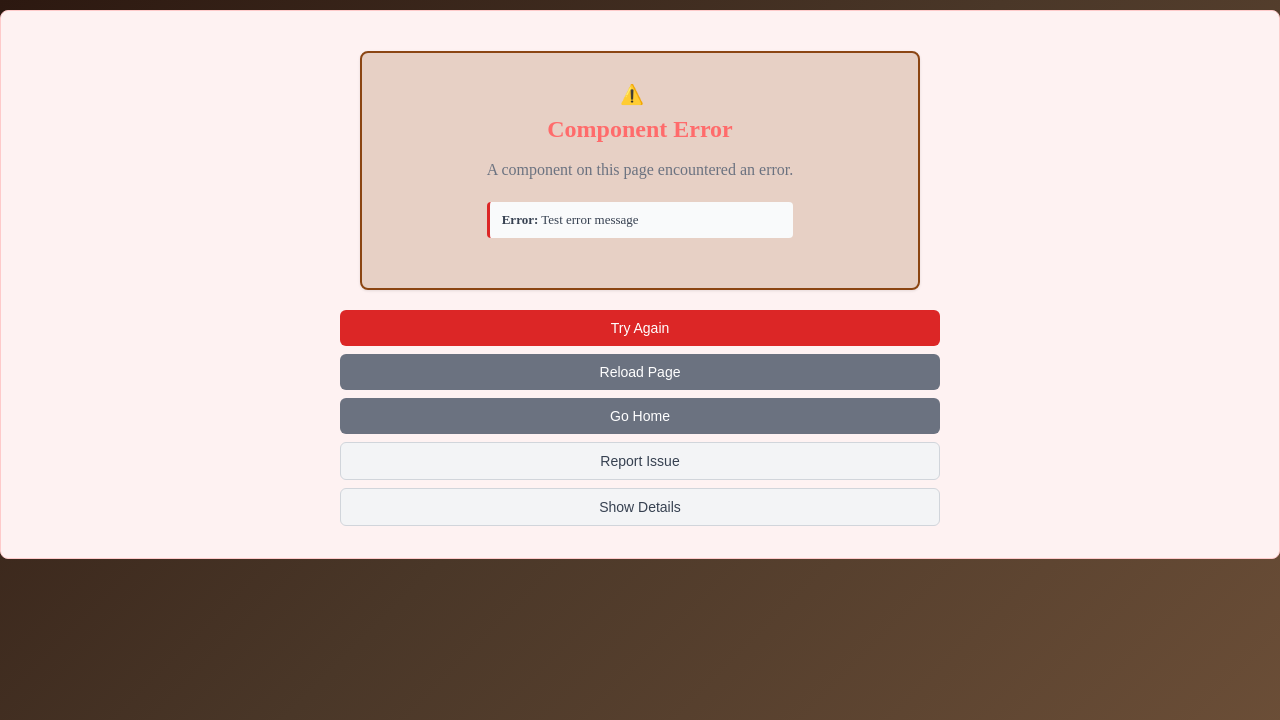
Test: EnhancedErrorBoundary › Error Details › shows details when show details button is clicked
The image size is (1280, 720).
Click the button "Show Details": click(640, 506) [340,488,940,526]
(page scrolled)
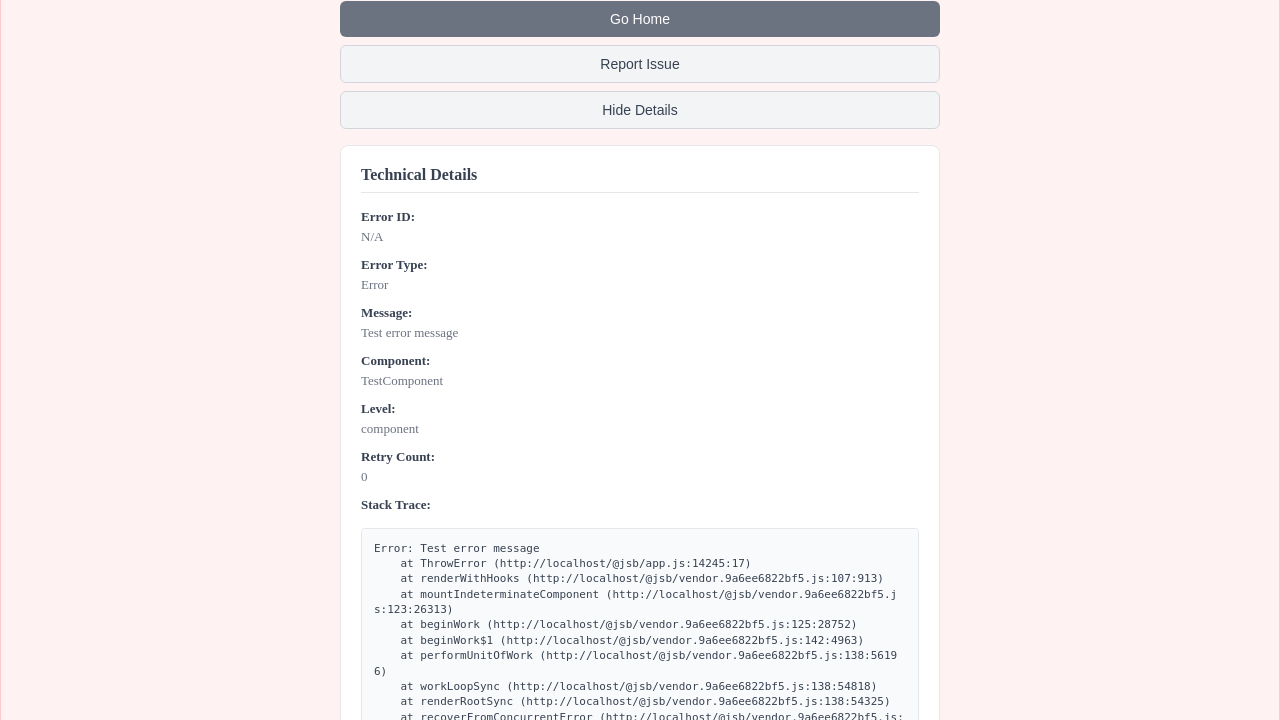
Expected: the heading "Technical Details" is shown, [361,166,919,192]
Expected: the text "Error Type:" is shown, [361,256,428,272]
Expected: the text "Message:" is shown, [361,304,412,320]
